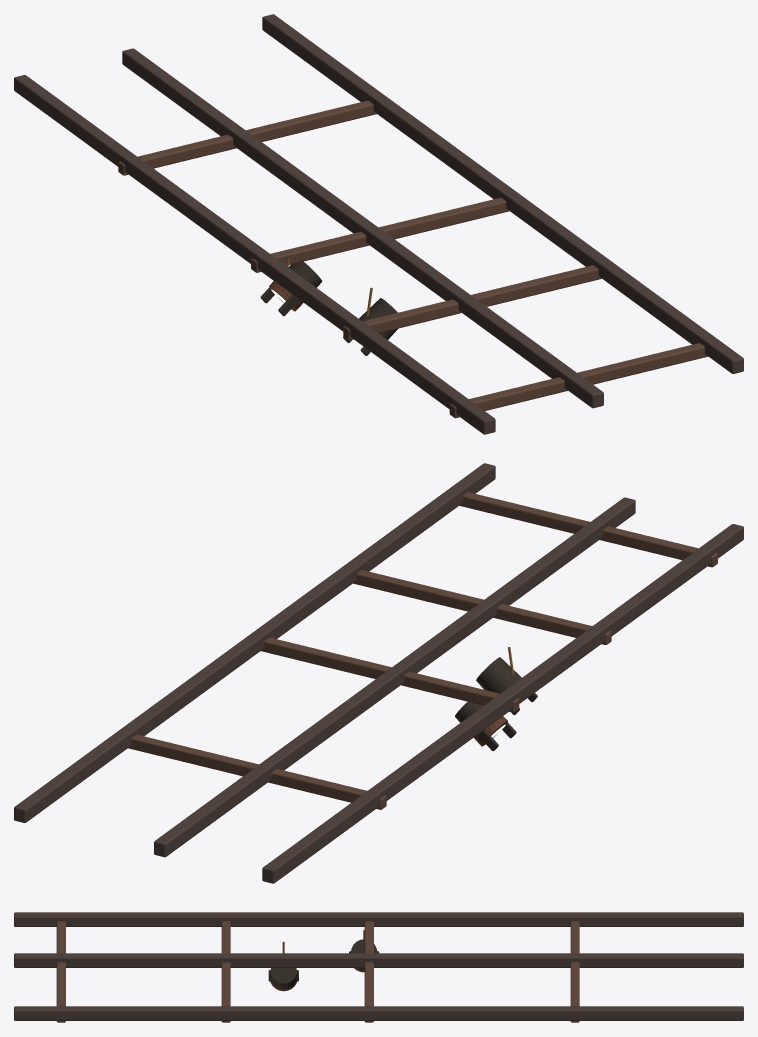
File: SM_Menu_StageRigging.fbx
3 views of the same model, one above another, from view 1: azimuth 30°, elevation 25°; view 2: azimuth 150°, elevation 25°; view 3: azimuth 270°, elevation 25° (orthographic). The views are drawn at different scales.
Visible parts, largest first — view 1: SM_Menu_StageRigging; view 2: SM_Menu_StageRigging; view 3: SM_Menu_StageRigging.
Part boxes in pixels (box(x1,y1,x2,y2)): SM_Menu_StageRigging: box(14, 14, 743, 434); SM_Menu_StageRigging: box(14, 463, 743, 883); SM_Menu_StageRigging: box(14, 912, 743, 1022).
Size of the model in its own units: 412 by 1280 by 106.
